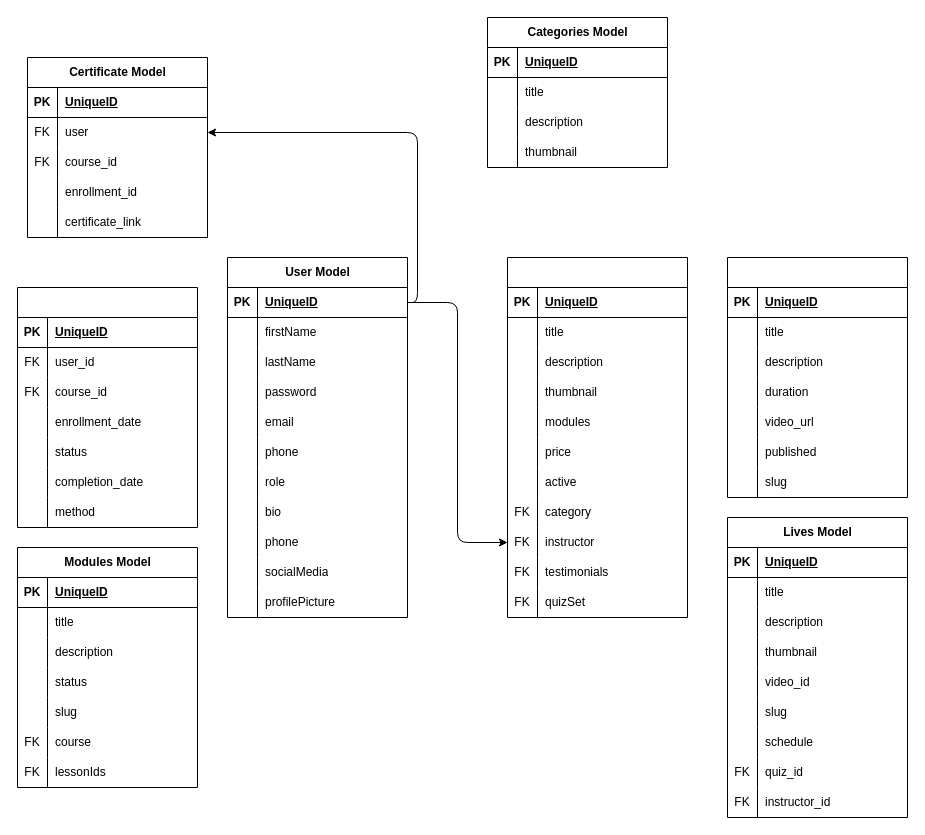
Image size: 925x835. Some labels were removed from this diagram. The shapes that lost their labels are listed below. From the top down, each one's box as (x1, y1, x2, y2) in pixels, then its label:
(726, 256, 908, 498): Lessons Model
(16, 286, 198, 528): Enrollments Model
(506, 256, 688, 618): Course Model
